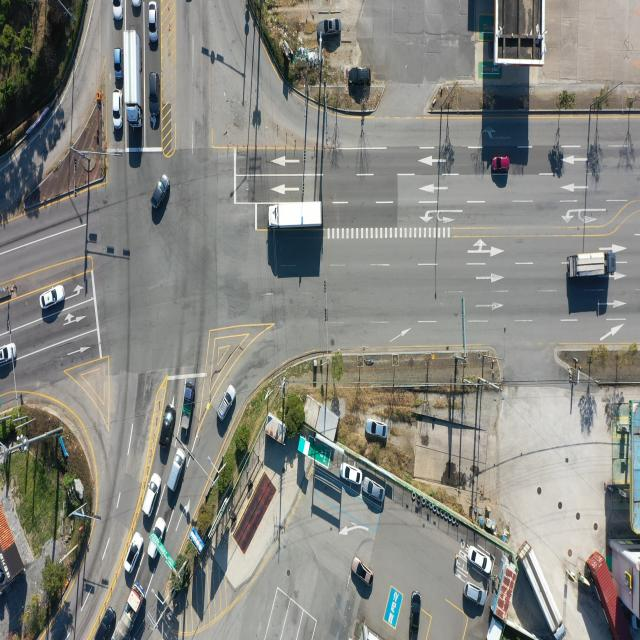car: (141, 474, 161, 518), (167, 448, 186, 494), (125, 532, 144, 574), (148, 518, 166, 562), (217, 386, 236, 422), (96, 604, 115, 640), (152, 173, 170, 209), (471, 547, 494, 575), (42, 285, 66, 310), (148, 68, 160, 118), (351, 558, 373, 585), (462, 583, 486, 607), (364, 479, 386, 504), (160, 407, 173, 449), (342, 462, 364, 485), (364, 418, 386, 438), (411, 592, 422, 631), (350, 66, 372, 85), (114, 92, 124, 130), (148, 3, 157, 42), (322, 18, 341, 36), (0, 344, 17, 364), (492, 157, 510, 172), (112, 0, 123, 20), (117, 50, 124, 80), (134, 0, 142, 12)
medium_truck: (522, 540, 567, 638), (113, 582, 146, 640), (268, 202, 322, 231), (127, 31, 143, 128), (567, 255, 609, 280)
small_truck: (180, 379, 194, 433)
